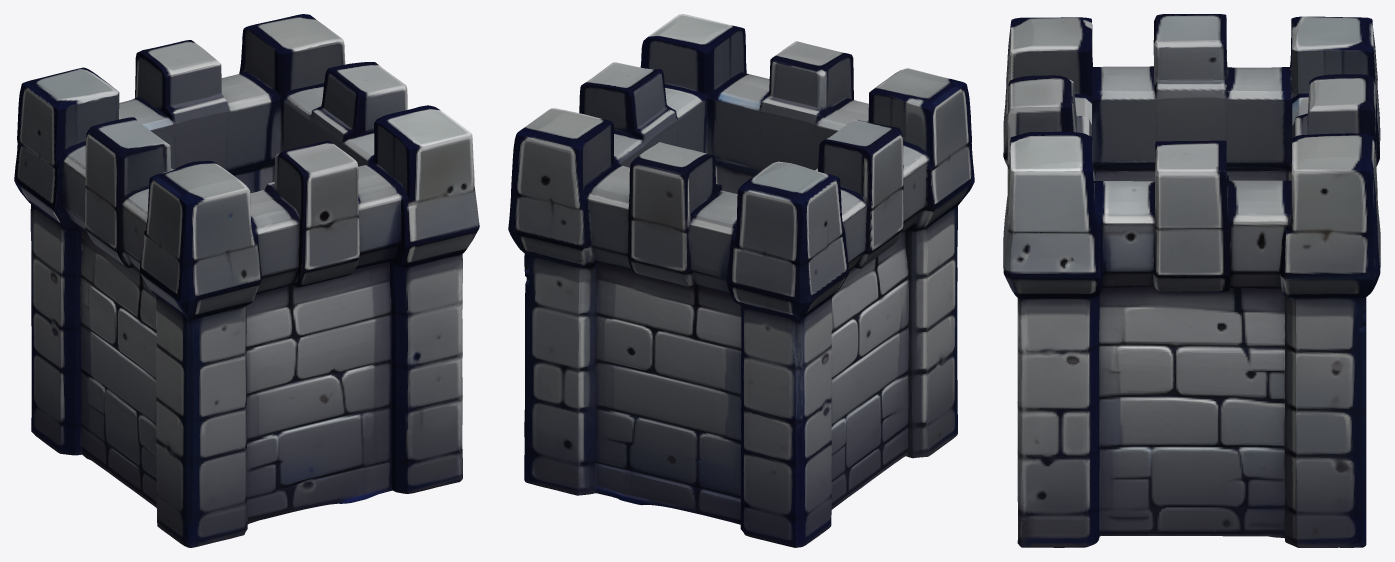
Rendered from wall.glb.
3 renders of one model, left to right at view 1: azimuth 30°, elevation 25°; view 2: azimuth 150°, elevation 25°; view 3: azimuth 270°, elevation 25°, orthographic. The views are drawn at different scales.
Visible parts, largest first — view 1: world; view 2: world; view 3: world.
Part boxes in pixels (bbox=[...]): world: bbox=[14, 14, 479, 547]; world: bbox=[508, 14, 974, 547]; world: bbox=[1003, 14, 1380, 547].
Size of the model in its own units: 0.8867 by 1 by 0.8832.
1 material, 1 textured.
